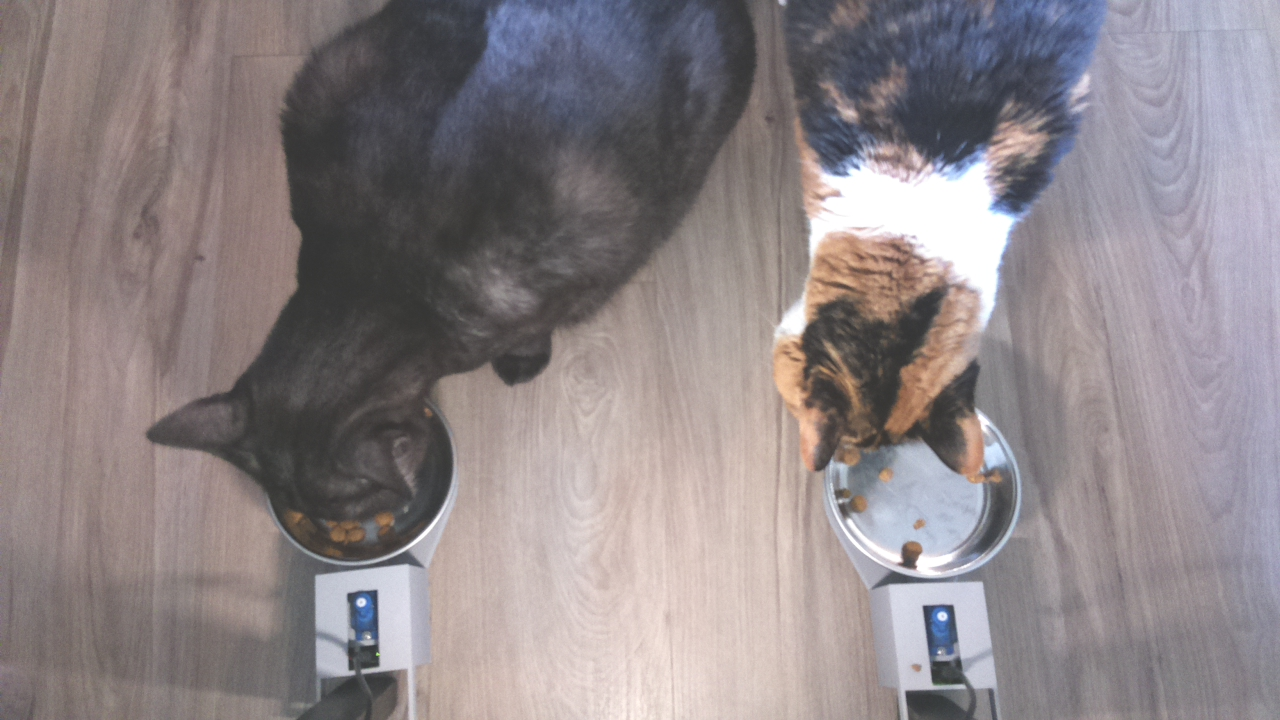bella: (754, 254, 1002, 480)
open_bowl: (808, 435, 1029, 582)
saki_eating: (140, 273, 482, 582)
